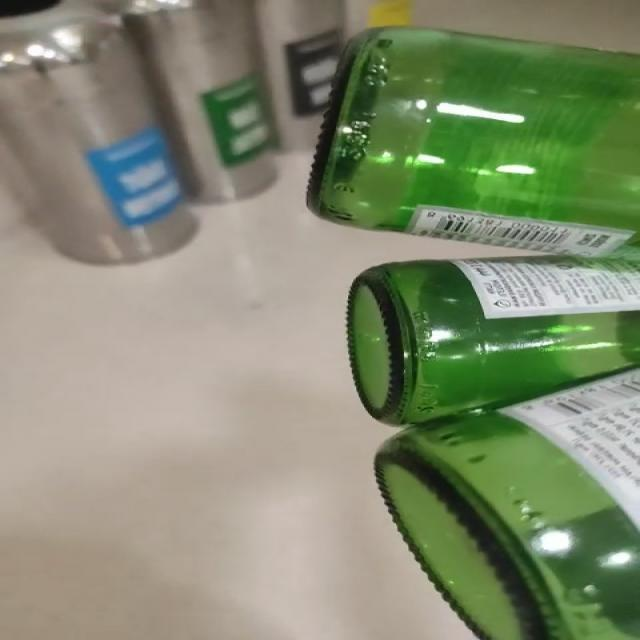Glass: (309, 28, 639, 640)
